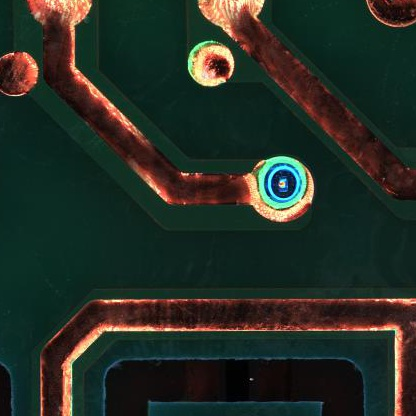spot: (252, 157, 315, 224)
